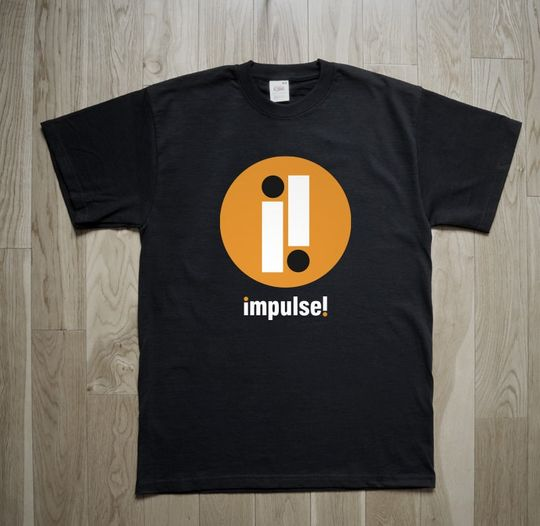design: (216, 153, 356, 323)
